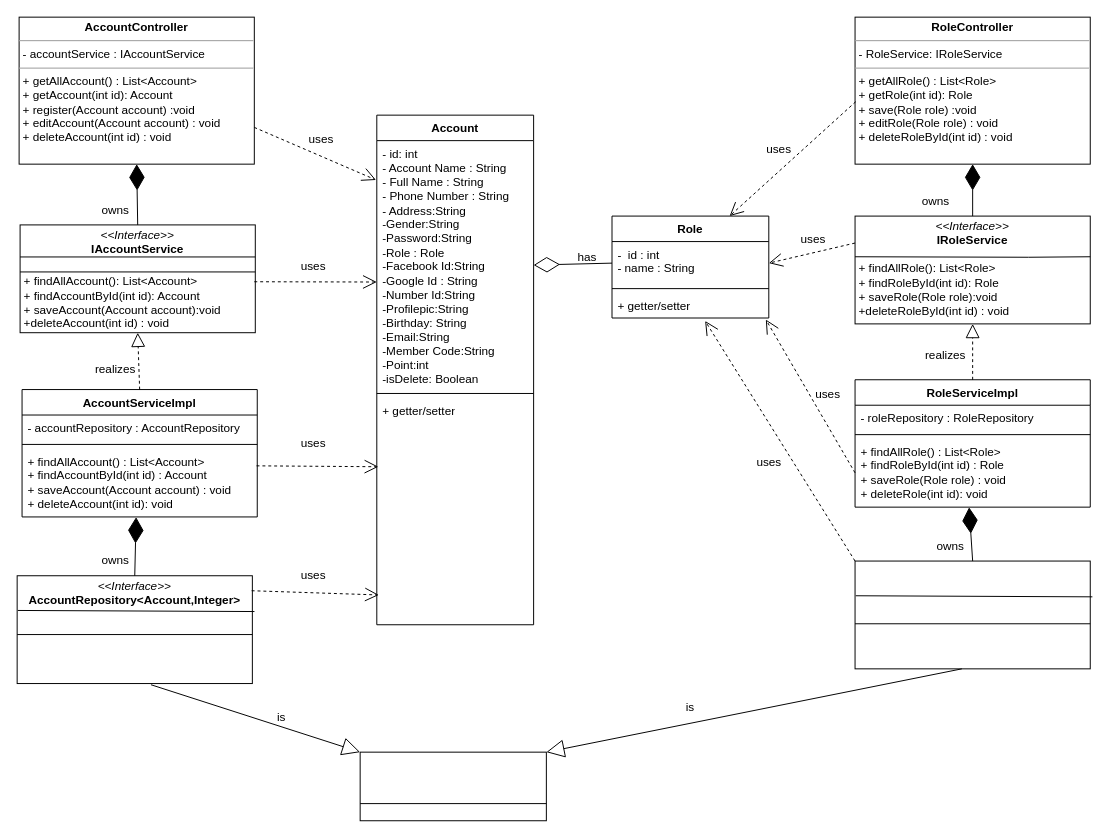
The diagram is 1111 pixels wide and 838 high, and some of its shapes have lost their labels. Each missing label, with the centre of its shape:
<<Interface>> JpaRepository: point (452, 786)
<<Interface>> RoleRepository<Role,Integer>: point (972, 614)
